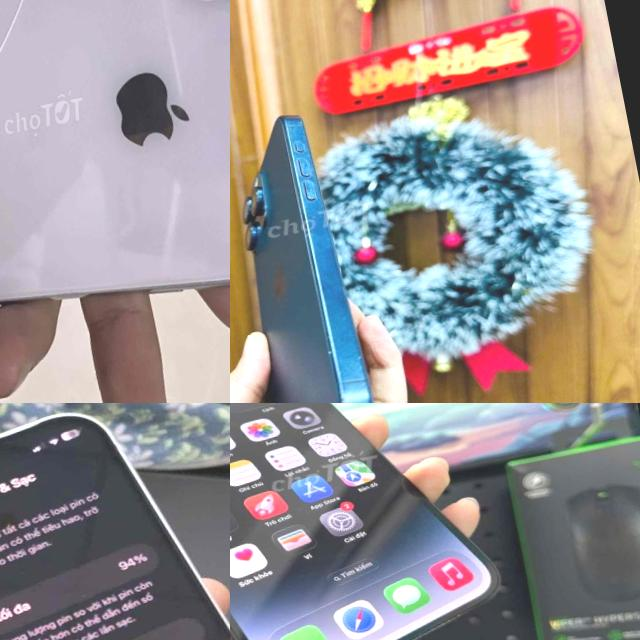gen_12_13: (0, 403, 230, 640)
gen_14: (230, 403, 518, 640)
gen_15: (230, 90, 407, 403)
gen_x_xs: (0, 0, 230, 303)
